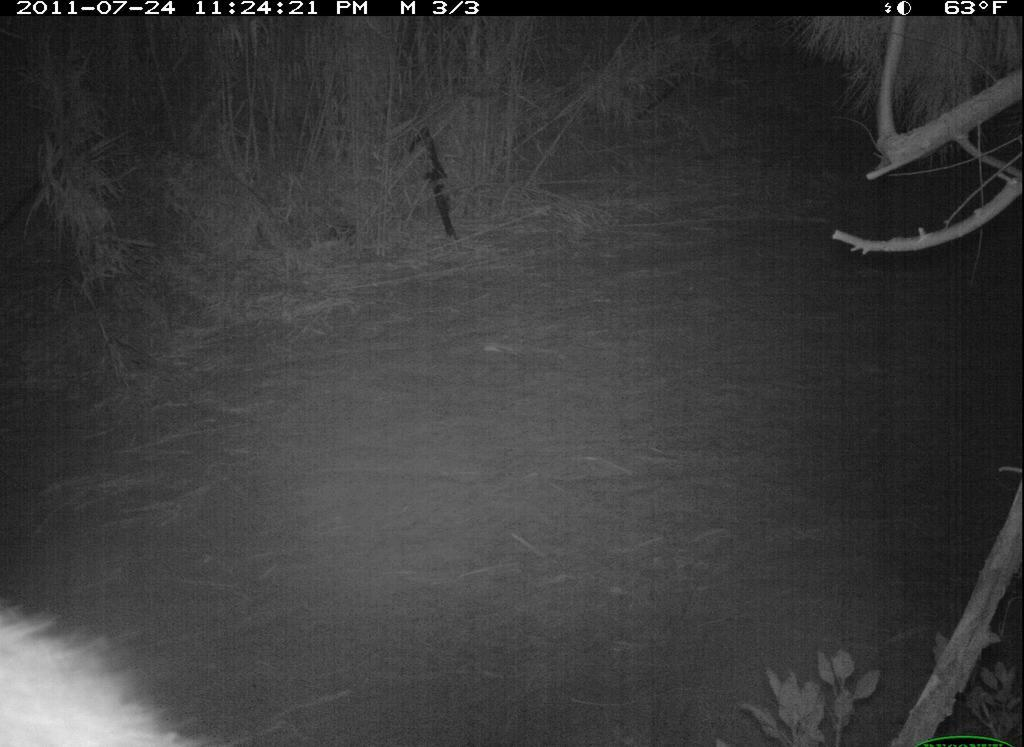raccoon: (4, 588, 210, 747)
